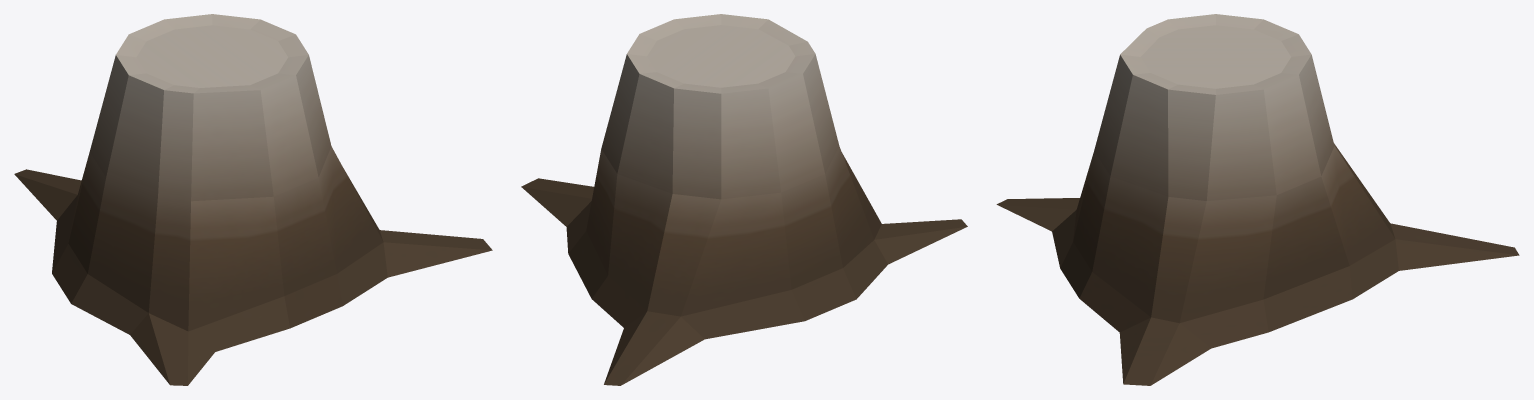
File: TreeStump_Snow.obj
3 renders of one model, left to right at view 1: azimuth 30°, elevation 25°; view 2: azimuth 150°, elevation 25°; view 3: azimuth 270°, elevation 25°, orthographic. The views are drawn at different scales.
Parts seen in each view (by area): view 1: TreeStump_Snow; view 2: TreeStump_Snow; view 3: TreeStump_Snow.
Part boxes in pixels (box(x1,y1,x2,y2)): TreeStump_Snow: box(14, 14, 492, 385); TreeStump_Snow: box(521, 14, 967, 385); TreeStump_Snow: box(996, 14, 1519, 385).
Bounding box in the file's own units: 0.9391 × 0.5095 × 1.11.
